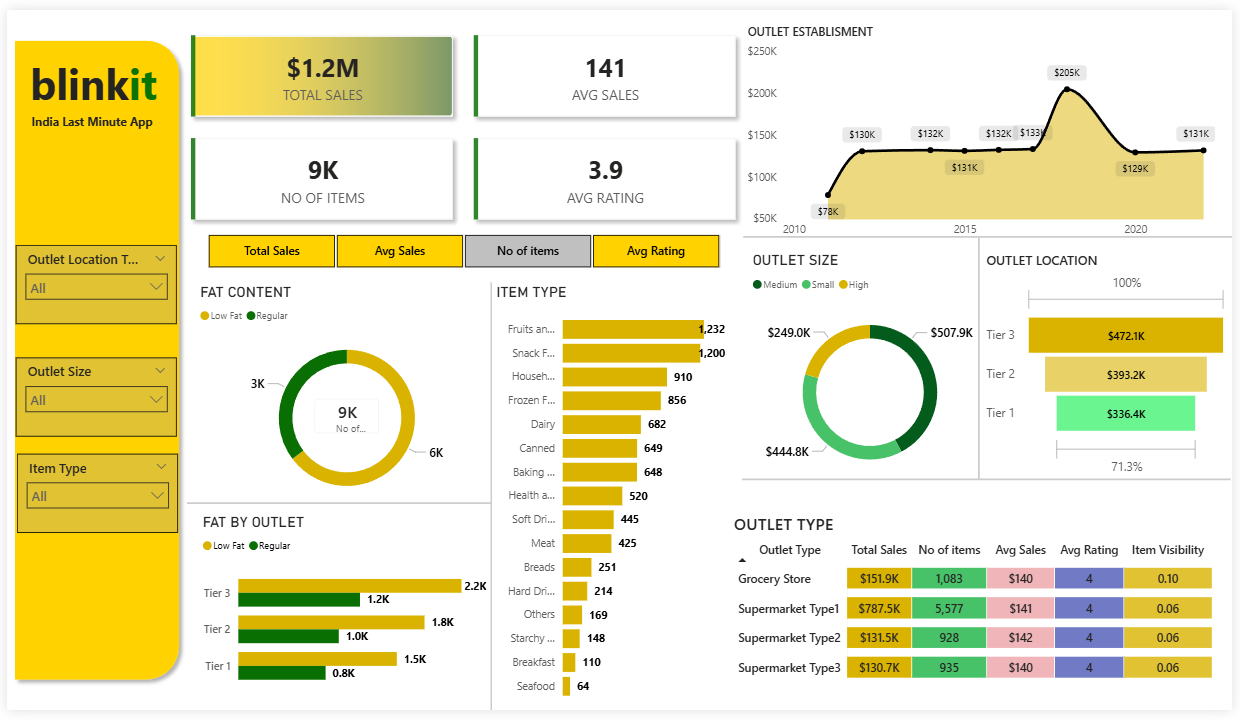

The dashboard page shown, as its layout file describes it:
{"tool":"powerbi","page":{"name":"Page 1","canvas":[1400,800],"ordinal":0},"visuals":[{"type":"shape","box":[0,25.7,205.7,748.6],"z":0},{"type":"textbox","box":[21.4,45.7,157.1,84.3],"z":1000},{"type":"textbox","box":[22.9,112.9,158.6,34.3],"z":2000},{"type":"cardVisual","fields":{"Data":["BlinkIT Grocery Data.Total Sales","BlinkIT Grocery Data.Avg Sales","BlinkIT Grocery Data.No of items","BlinkIT Grocery Data.Avg Rating"]},"box":[181.4,0,680,268.6],"z":3000},{"type":"donutChart","title":"FAT CONTENT","fields":{"Y":["BlinkIT Grocery Data.No of items"],"Category":["BlinkIT Grocery Data.Item Fat Content"]},"box":[215.7,311.4,345.7,262.9],"z":4000},{"type":"slicer","fields":{"Values":["Metrics.Metrics"]},"box":[203.8,250,633.8,51.2],"z":5000},{"type":"cardVisual","fields":{"Data":["BlinkIT Grocery Data.No of items"]},"box":[334.3,427.1,108.6,74.3],"z":6000},{"type":"clusteredBarChart","title":"FAT BY OUTLET ","fields":{"Y":["BlinkIT Grocery Data.No of items"],"Category":["BlinkIT Grocery Data.Outlet Location Type"],"Series":["BlinkIT Grocery Data.Item Fat Content"]},"box":[218.6,574.3,334.3,214.3],"z":7000},{"type":"shape","box":[545.7,311.4,15.7,488.6],"z":8000},{"type":"shape","box":[205.7,552.9,348.6,21.4],"z":9000},{"type":"barChart","title":"ITEM TYPE","fields":{"Y":["BlinkIT Grocery Data.No of items"],"Category":["BlinkIT Grocery Data.Item Type"]},"box":[554.3,311.4,271.4,488.6],"z":10000},{"type":"lineChart","title":"OUTLET ESTABLISMENT","fields":{"Y":["BlinkIT Grocery Data.Total Sales"],"Category":["BlinkIT Grocery Data.Outlet Establishment Year"]},"box":[841.4,15.7,544.3,252.9],"z":11000},{"type":"shape","box":[841.4,250,558.6,18.6],"z":12000},{"type":"donutChart","title":"OUTLET SIZE","fields":{"Y":["BlinkIT Grocery Data.Total Sales"],"Category":["BlinkIT Grocery Data.Outlet Size"]},"box":[847.1,275.7,278.6,275.7],"z":13000},{"type":"shape","box":[1100,260,21.4,277.1],"z":14000},{"type":"funnel","title":"OUTLET LOCATION","fields":{"Y":["BlinkIT Grocery Data.Total Sales"],"Category":["BlinkIT Grocery Data.Outlet Location Type"]},"box":[1114.3,275.7,285.7,261.4],"z":15000},{"type":"pivotTable","title":"OUTLET TYPE","fields":{"Rows":["BlinkIT Grocery Data.Outlet Type"],"Values":["BlinkIT Grocery Data.Total Sales","BlinkIT Grocery Data.No of items","BlinkIT Grocery Data.Avg Sales","BlinkIT Grocery Data.Avg Rating","Avg(BlinkIT Grocery Data.Item Visibility)"]},"box":[825.7,574.3,572.9,214.3],"z":16000},{"type":"shape","box":[840,527.1,558.6,18.6],"z":17000},{"type":"slicer","fields":{"Values":["BlinkIT Grocery Data.Outlet Location Type"]},"box":[10,268.6,184.3,90],"z":18000},{"type":"slicer","fields":{"Values":["BlinkIT Grocery Data.Outlet Size"]},"box":[10,397.1,184.3,90],"z":19000},{"type":"slicer","fields":{"Values":["BlinkIT Grocery Data.Item Type"]},"box":[11.4,507.1,184.3,90],"z":20000}]}

Visuals, with their boxes in screenshot pixels (x1, y1, x2, y2), scaled from the page's 1400x800 canvas onto the 1240x720 screenshot:
shape: (x1=0, y1=23, x2=182, y2=697)
textbox: (x1=19, y1=41, x2=158, y2=117)
textbox: (x1=20, y1=102, x2=161, y2=132)
cardVisual - BlinkIT Grocery Data.Total Sales x BlinkIT Grocery Data.Avg Sales: (x1=161, y1=0, x2=763, y2=242)
"FAT CONTENT" donutChart: (x1=191, y1=280, x2=497, y2=517)
slicer - Metrics.Metrics: (x1=181, y1=225, x2=742, y2=271)
cardVisual - BlinkIT Grocery Data.No of items: (x1=296, y1=384, x2=392, y2=451)
"FAT BY OUTLET " clusteredBarChart: (x1=194, y1=517, x2=490, y2=710)
shape: (x1=483, y1=280, x2=497, y2=719)
shape: (x1=182, y1=498, x2=491, y2=517)
"ITEM TYPE" barChart: (x1=491, y1=280, x2=731, y2=719)
"OUTLET ESTABLISMENT" lineChart: (x1=745, y1=14, x2=1227, y2=242)
shape: (x1=745, y1=225, x2=1239, y2=242)
"OUTLET SIZE" donutChart: (x1=750, y1=248, x2=997, y2=496)
shape: (x1=974, y1=234, x2=993, y2=483)
"OUTLET LOCATION" funnel: (x1=987, y1=248, x2=1239, y2=483)
"OUTLET TYPE" pivotTable: (x1=731, y1=517, x2=1239, y2=710)
shape: (x1=744, y1=474, x2=1239, y2=491)
slicer - BlinkIT Grocery Data.Outlet Location Type: (x1=9, y1=242, x2=172, y2=323)
slicer - BlinkIT Grocery Data.Outlet Size: (x1=9, y1=357, x2=172, y2=438)
slicer - BlinkIT Grocery Data.Item Type: (x1=10, y1=456, x2=173, y2=537)
